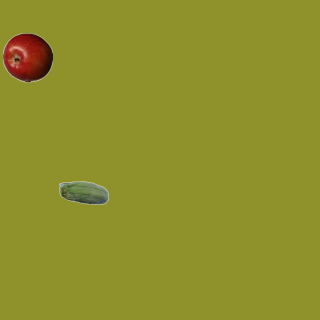Apple Braeburn: (2, 32, 52, 82)
Corn Husk: (58, 169, 108, 219)
